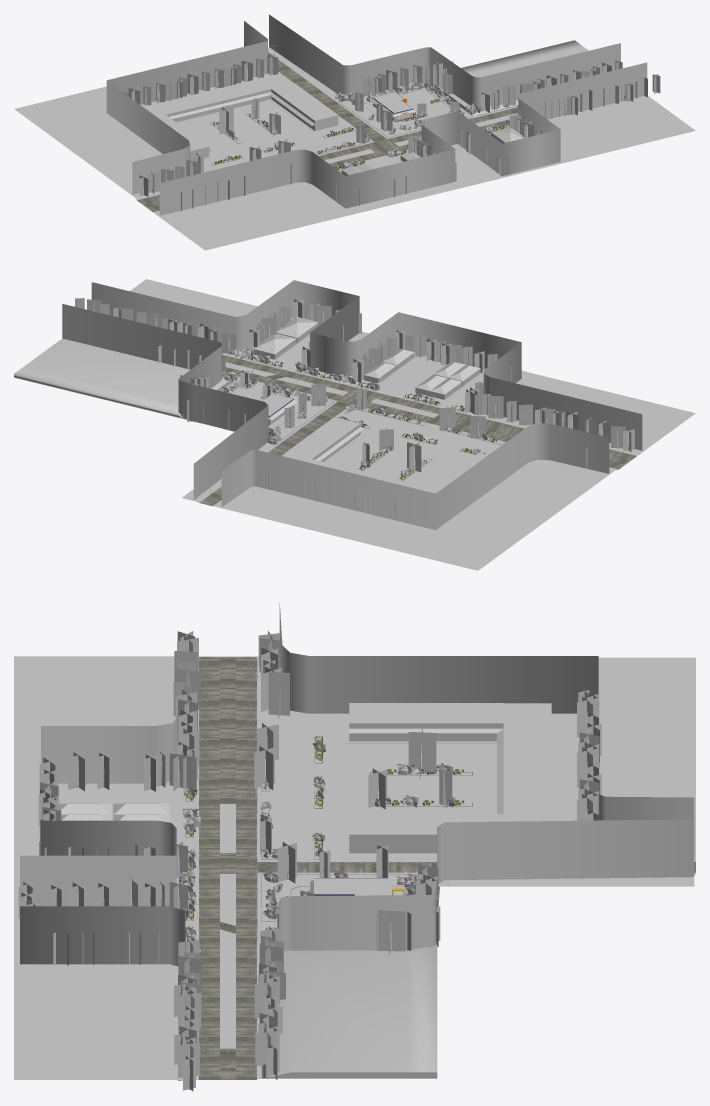
Rendered from BurgerPiz.dae.
The picture shows the model from 3 angles, top to bottom: view 1: azimuth 30°, elevation 25°; view 2: azimuth 150°, elevation 25°; view 3: azimuth 270°, elevation 25°; orthographic projection. The views are drawn at different scales.
Parts seen in each view (by area): view 1: Background, sidewalk.001, Grass, Building, Building.001, Building.002, garden, AsphaltDamaged, Building.003, BurgerPiz; view 2: Background, sidewalk.001, Grass, Building, garden, Building_01, Building_01.001, AsphaltDamaged, Building.003, BurgerPiz; view 3: sidewalk.001, Background, Grass, Building.003, Building, Building.002, garden, Building.001, BurgerPiz, Tree_01.004, Tree_01.009, Tree.020 (+1 smaller).
Part boxes in pixels (<box>): Background: <box>106,14,647,215</box>; sidewalk.001: <box>14,50,695,250</box>; Grass: <box>437,40,588,116</box>; Building: <box>270,83,338,130</box>; Building.001: <box>205,73,293,111</box>; Building.002: <box>143,92,219,122</box>; garden: <box>268,47,473,137</box>; AsphaltDamaged: <box>363,89,450,126</box>; Building.003: <box>157,114,211,160</box>; BurgerPiz: <box>373,92,413,121</box>; Background: <box>62,280,642,530</box>; sidewalk.001: <box>130,279,695,570</box>; Grass: <box>14,339,237,418</box>; Building: <box>285,417,363,461</box>; garden: <box>182,378,333,501</box>; Building_01: <box>253,333,296,359</box>; Building_01.001: <box>276,317,318,343</box>; AsphaltDamaged: <box>230,382,298,429</box>; Building.003: <box>430,452,488,490</box>; BurgerPiz: <box>262,393,293,424</box>; sidewalk.001: <box>14,656,695,1079</box>; Background: <box>20,603,694,1027</box>; Grass: <box>261,945,437,1078</box>; Building.003: <box>349,703,504,741</box>; Building: <box>349,814,503,853</box>; Building.002: <box>497,703,551,776</box>; garden: <box>261,874,694,944</box>; Building.001: <box>497,769,551,821</box>; BurgerPiz: <box>314,878,389,895</box>; Tree_01.004: <box>378,910,405,955</box>; Tree_01.009: <box>408,727,436,779</box>; Tree.020: <box>268,669,289,718</box>.
Bounding box in the file's own units: 407 × 270 × 26.9.
